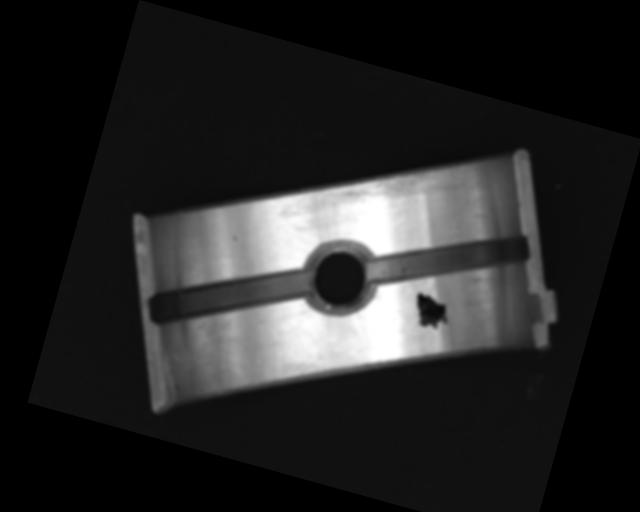blot: (407, 289, 455, 333)
bruise: (230, 233, 241, 242)
gap: (146, 232, 313, 358), (364, 199, 533, 318)
hole: (296, 234, 383, 323)
scratch: (320, 128, 471, 232)
